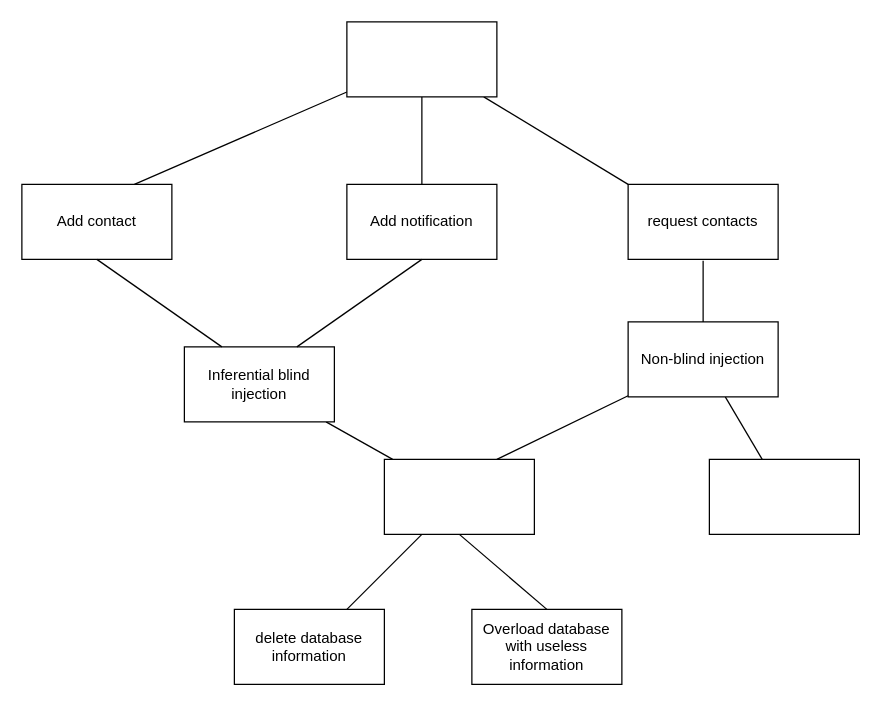
Some shapes in this 881 by 706 pixel diagram are drawn without their labels. Each missing label, with the centre of its shape:
retrieve information: point (783, 496)
SQL Injection: point (421, 59)
Temper with information on database: point (458, 496)
